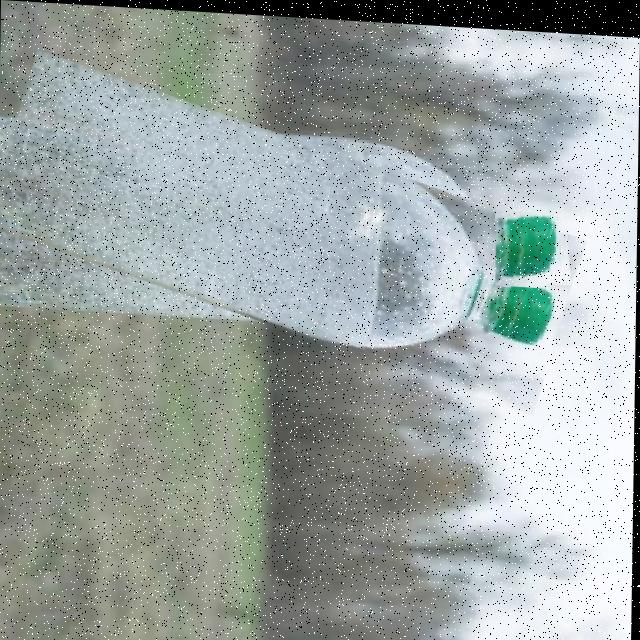plasticbottle: (0, 85, 581, 373)
plasticbottlecap: (495, 183, 571, 283)
